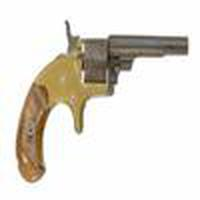gun: (10, 26, 189, 186)
